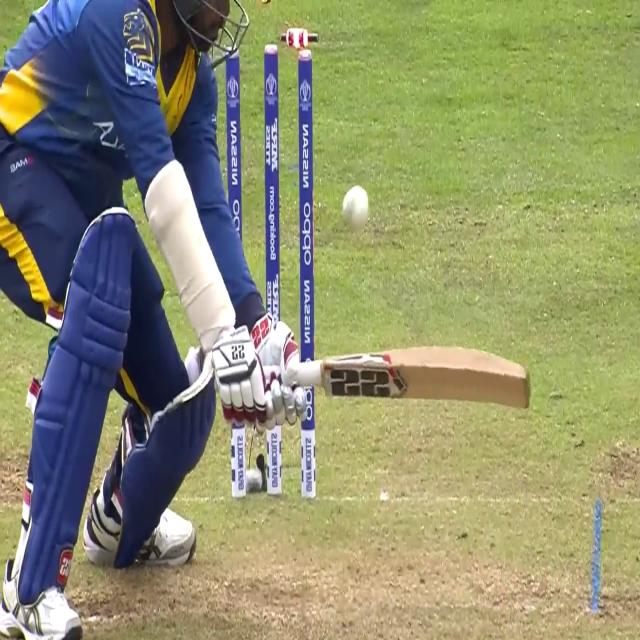ball: (341, 184, 371, 232)
